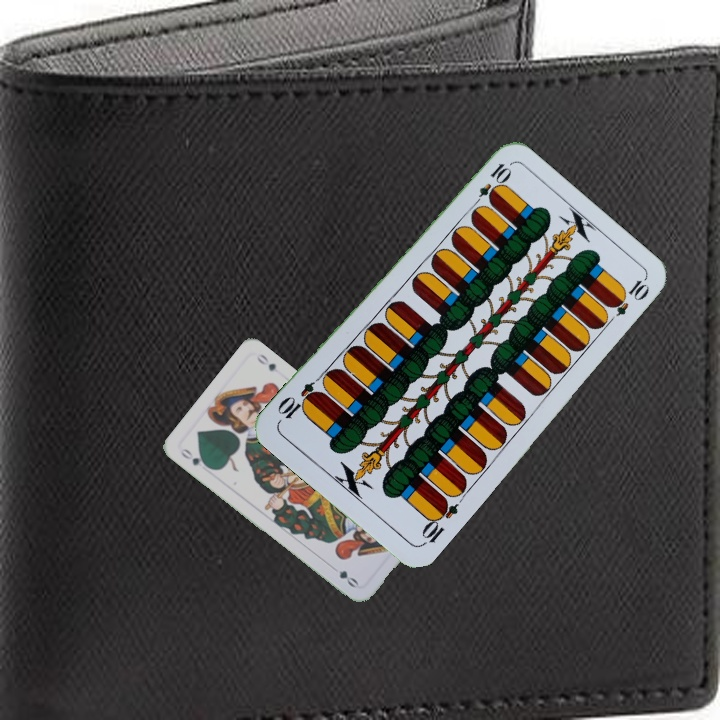E10: (417, 494, 461, 549), (468, 159, 513, 211)
GO: (176, 444, 213, 471)
